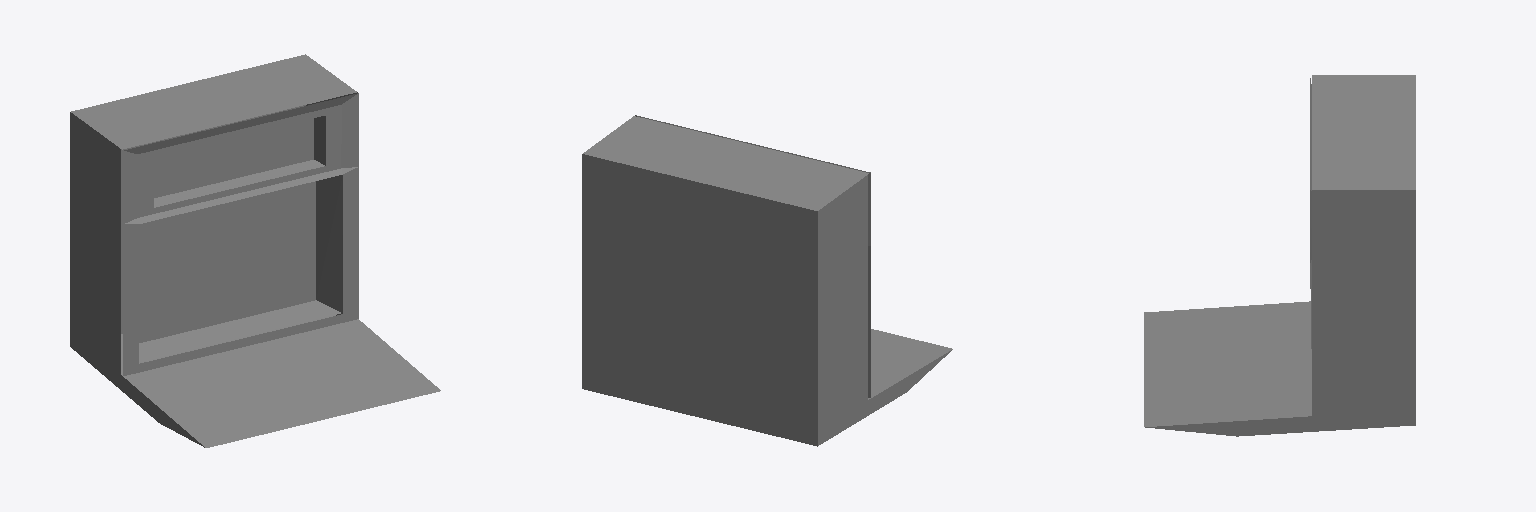
File: window_high.obj
3 views of the same model, side by side, from view 1: azimuth 30°, elevation 25°; view 2: azimuth 150°, elevation 25°; view 3: azimuth 270°, elevation 25° (orthographic).
Visible parts, largest first — view 1: raam4; view 2: raam4; view 3: raam4.
Part boxes in pixels (x1,y1,x2,y2): raam4: (70, 54, 440, 447); raam4: (582, 115, 952, 446); raam4: (1144, 75, 1415, 436).
Size of the model in its own units: 12.8 by 12.79 by 12.81.